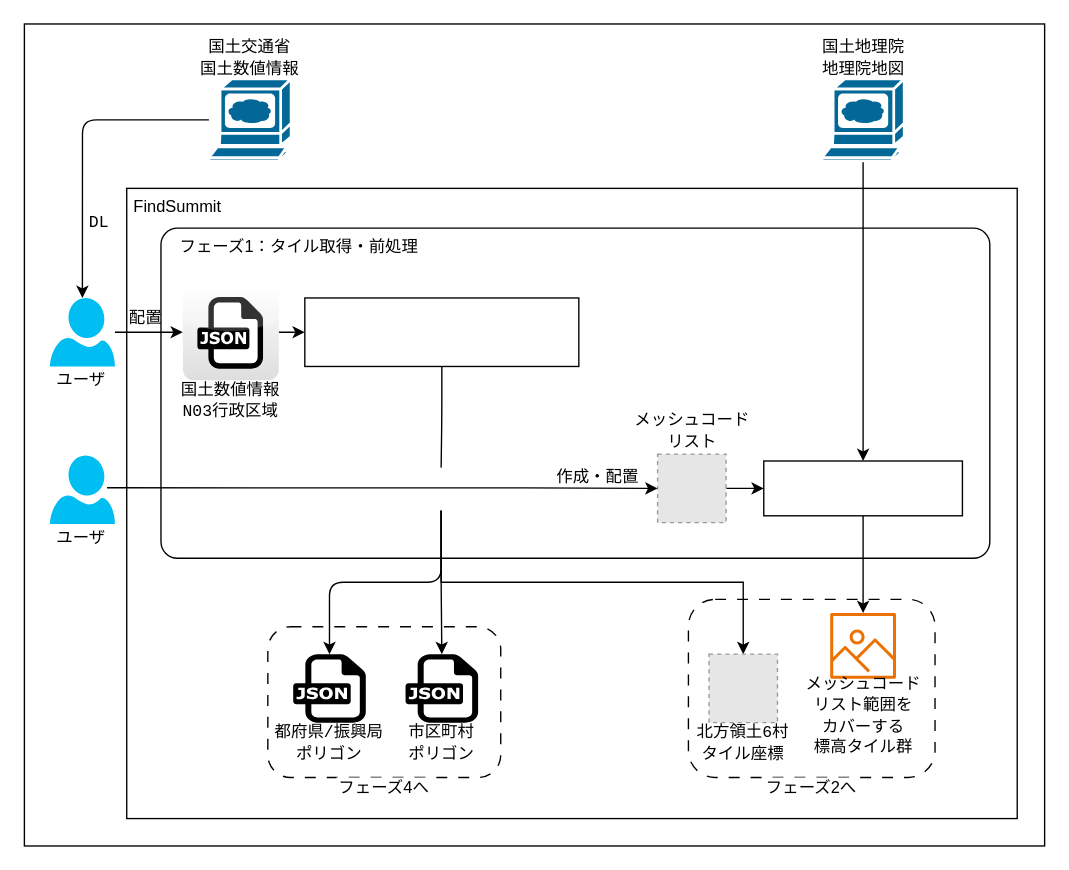
This 1069x870 diagram has some shape labels left out. Grey dashed boxes stand in for pictures. Each missing label, with the box of its shape:
FR-001 標高タイル事前取得: (762, 460, 962, 516)
FR-017 N03 行政区域前処理（データ準備）: (303, 297, 579, 366)
